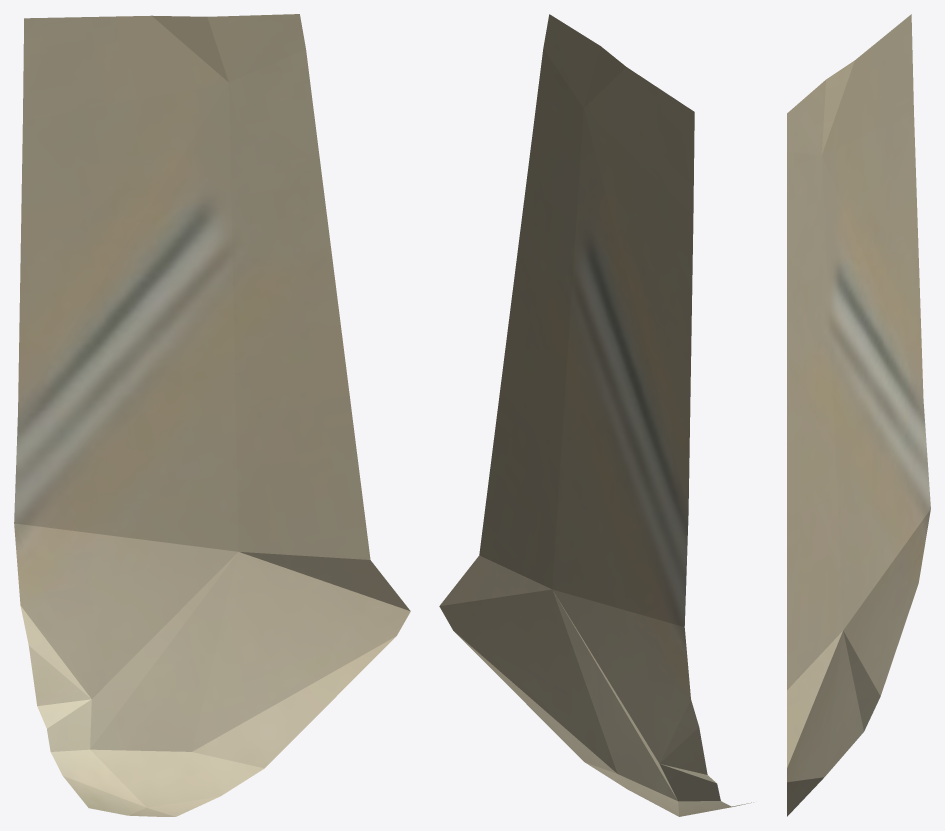
The picture shows the model from 3 angles, left to right: view 1: azimuth 30°, elevation 25°; view 2: azimuth 150°, elevation 25°; view 3: azimuth 270°, elevation 25°; orthographic projection. The views are drawn at different scales.
Size of the model in its own units: 0.29 by 0.6647 by 0.1163.
Materials: 1 (1 with a texture image).
